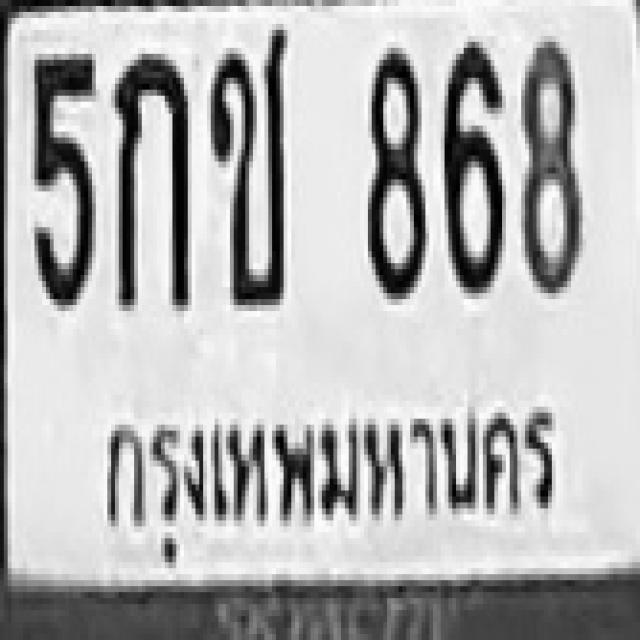10GorGai: (111, 48, 188, 305)
19ChorChang: (205, 24, 286, 299)
5: (31, 48, 92, 305)
6: (441, 39, 502, 290)
8: (517, 36, 579, 293), (366, 42, 423, 293)
Bangkok: (79, 371, 576, 578)
